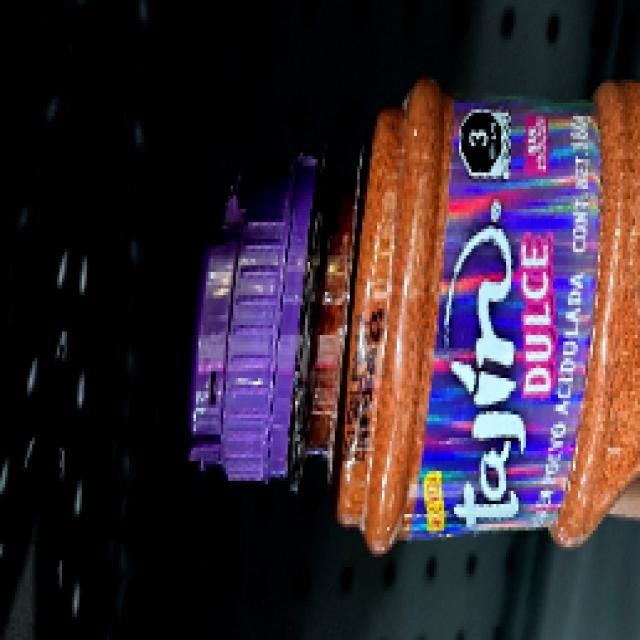tajinDulce: (197, 104, 640, 528)
